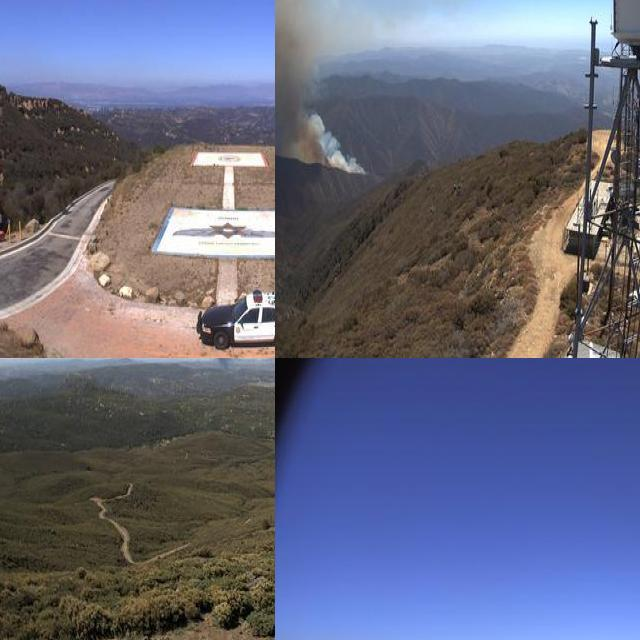smoke: (275, 0, 366, 180), (174, 358, 239, 373)
